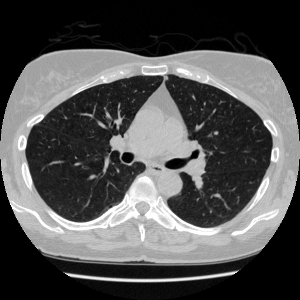nodule: (214, 131, 218, 135)
